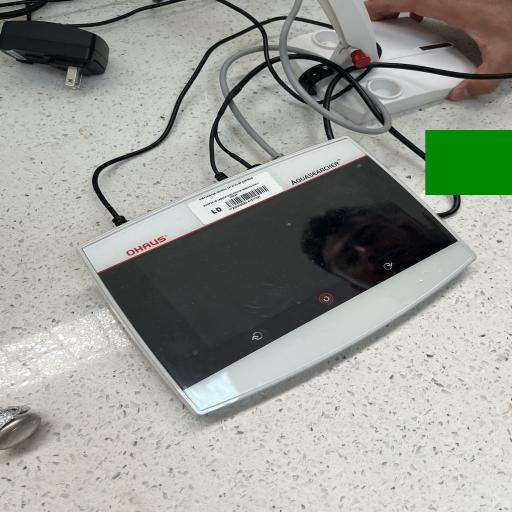Phmetro_Ohaus: (62, 128, 491, 430)
